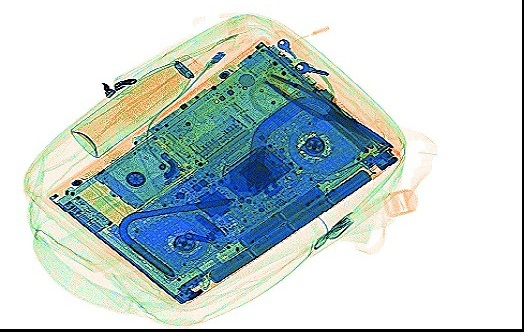pressure: (67, 52, 205, 157)
scissors: (249, 57, 394, 148)
